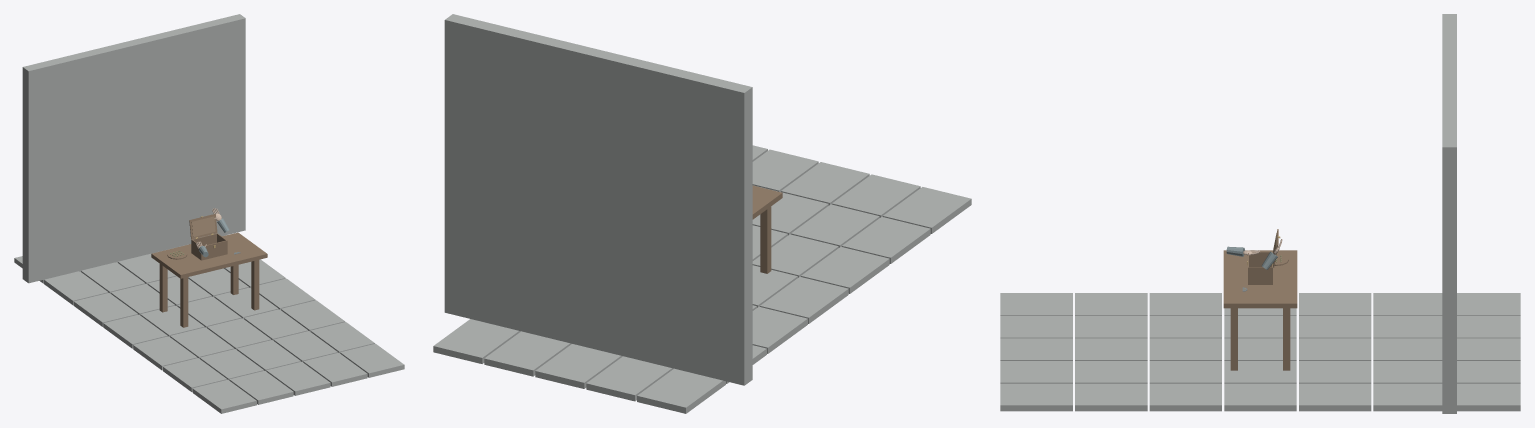
The model's file is P01-assembly-v1.glb.
3 views of the same model, side by side, from view 1: azimuth 30°, elevation 25°; view 2: azimuth 150°, elevation 25°; view 3: azimuth 270°, elevation 25° (orthographic). The views are drawn at different scales.
Parts seen in each view (by area): view 1: wall, paving_slab (×28), tabletop, table_leg (×3), lid_inner_frame; view 2: wall, paving_slab (×17), table_leg, tabletop; view 3: paving_slab (×35), wall, tabletop, table_leg (×2).
Part boxes in pixels (x1=…): wall: x1=22, y1=14, x2=245, y2=283; paving_slab (×28): x1=44, y1=253, x2=404, y2=413; tabletop: x1=151, y1=232, x2=267, y2=278; table_leg (×3): x1=159, y1=260, x2=259, y2=327; lid_inner_frame: x1=191, y1=216, x2=215, y2=236; wall: x1=444, y1=14, x2=752, y2=385; paving_slab (×17): x1=433, y1=149, x2=971, y2=413; table_leg: x1=760, y1=206, x2=771, y2=273; tabletop: x1=752, y1=185, x2=782, y2=219; paving_slab (×35): x1=1000, y1=293, x2=1520, y2=411; wall: x1=1442, y1=14, x2=1456, y2=413; tabletop: x1=1223, y1=250, x2=1297, y2=308; table_leg (×2): x1=1230, y1=308, x2=1290, y2=370.
Bounding box in the file's own units: 3 × 2.88 × 4.95.
